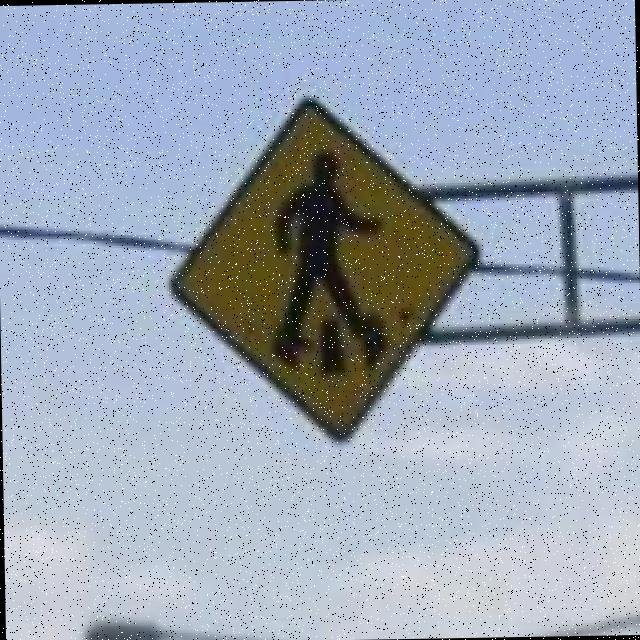Przejscie dla pieszych: (165, 105, 480, 442)
